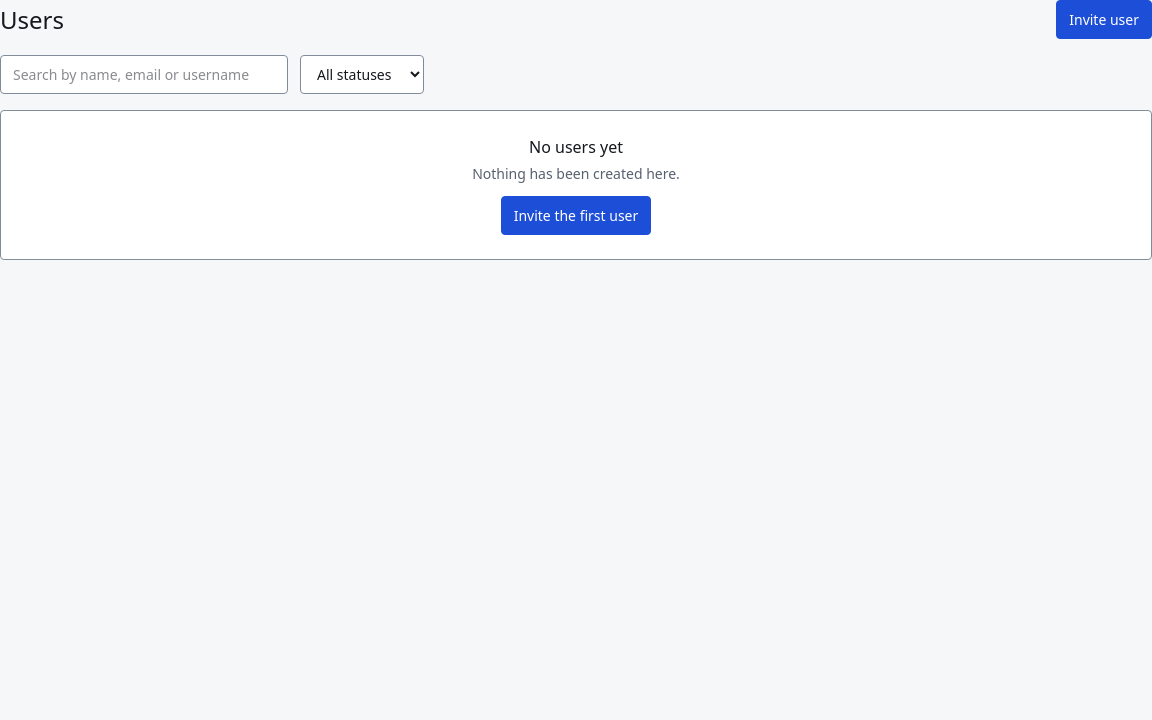
it: the invite flow › makes 'no access yet' an explicit choice rather than a skip
Click the button "Invite user". click: {"x": 1104, "y": 20}
box: [1056,0,1151,39]
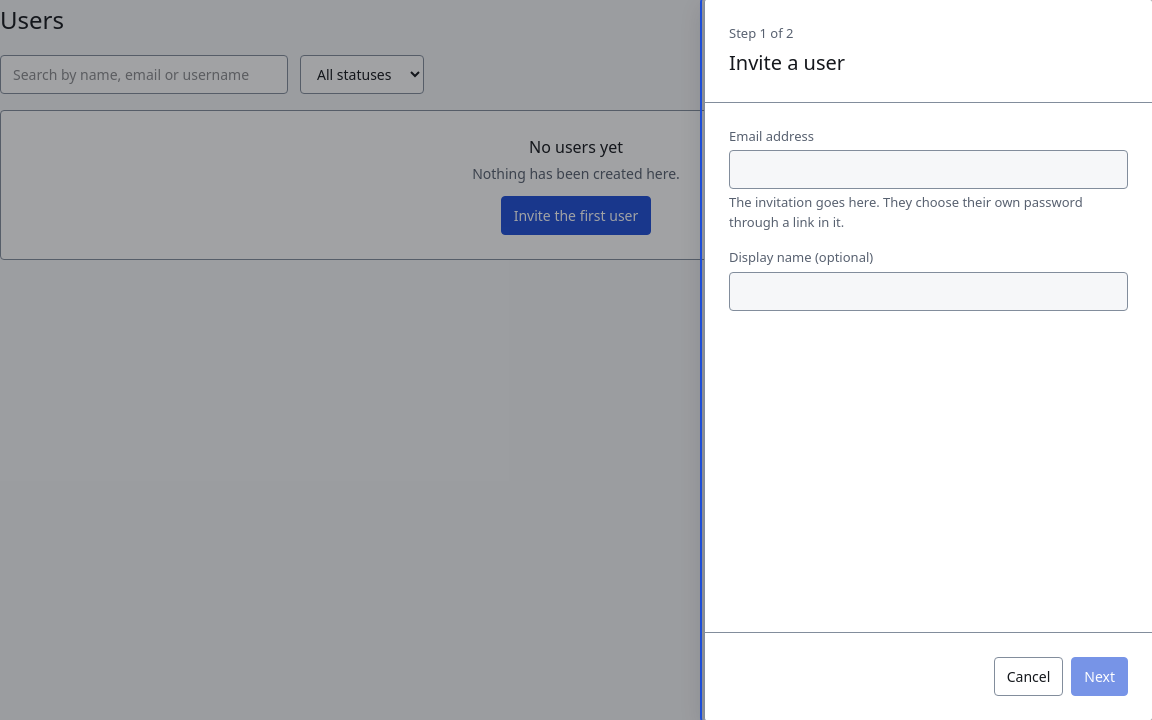
Type "new@example.test" into the field labelled "Email address". click: {"x": 928, "y": 170}
box: [729,150,1128,189]
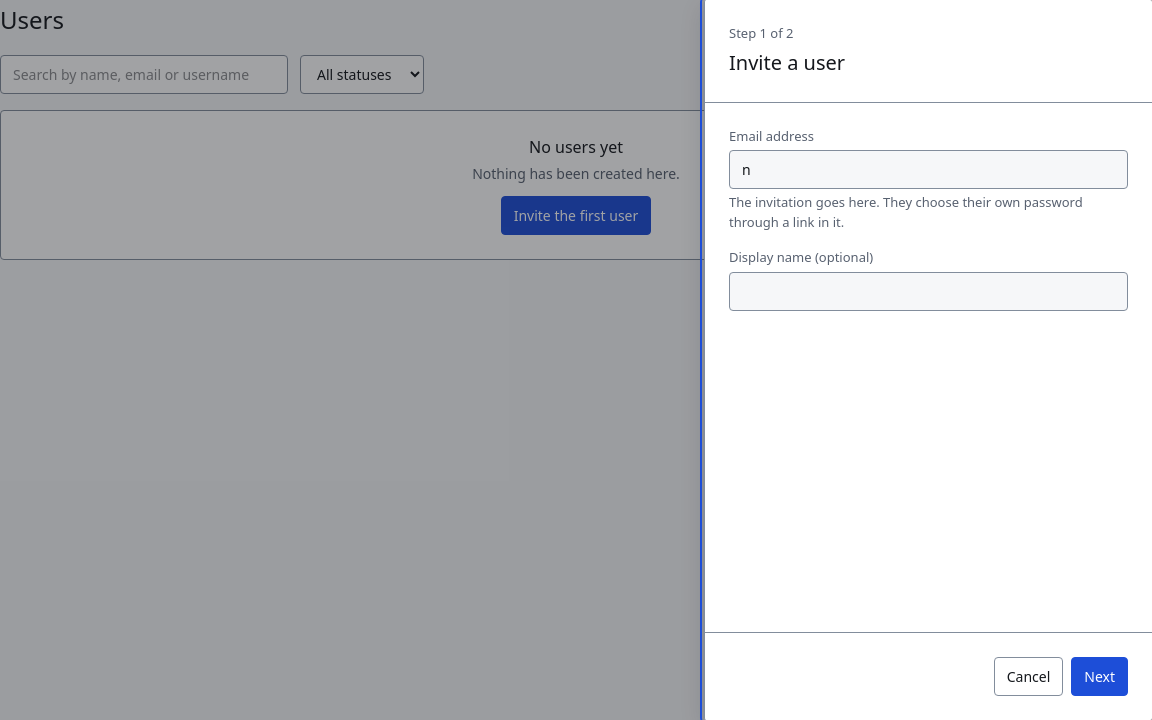
Click the button "Next". click: {"x": 1100, "y": 676}
box: [1071,657,1128,696]
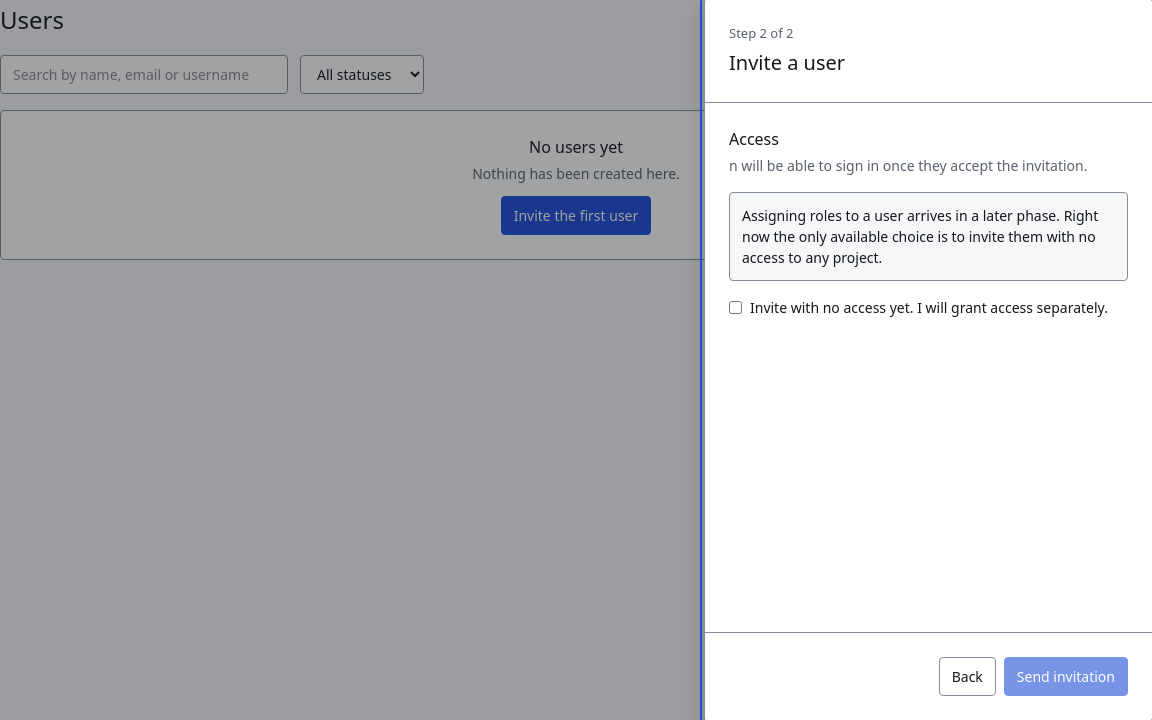
Expected: the button "Send invitation" is disabled, [1004,657,1128,696]
Click the checkbox labelled "Invite with no access yet. I will grant access separately.". click: {"x": 736, "y": 307}
box: [729,300,742,314]
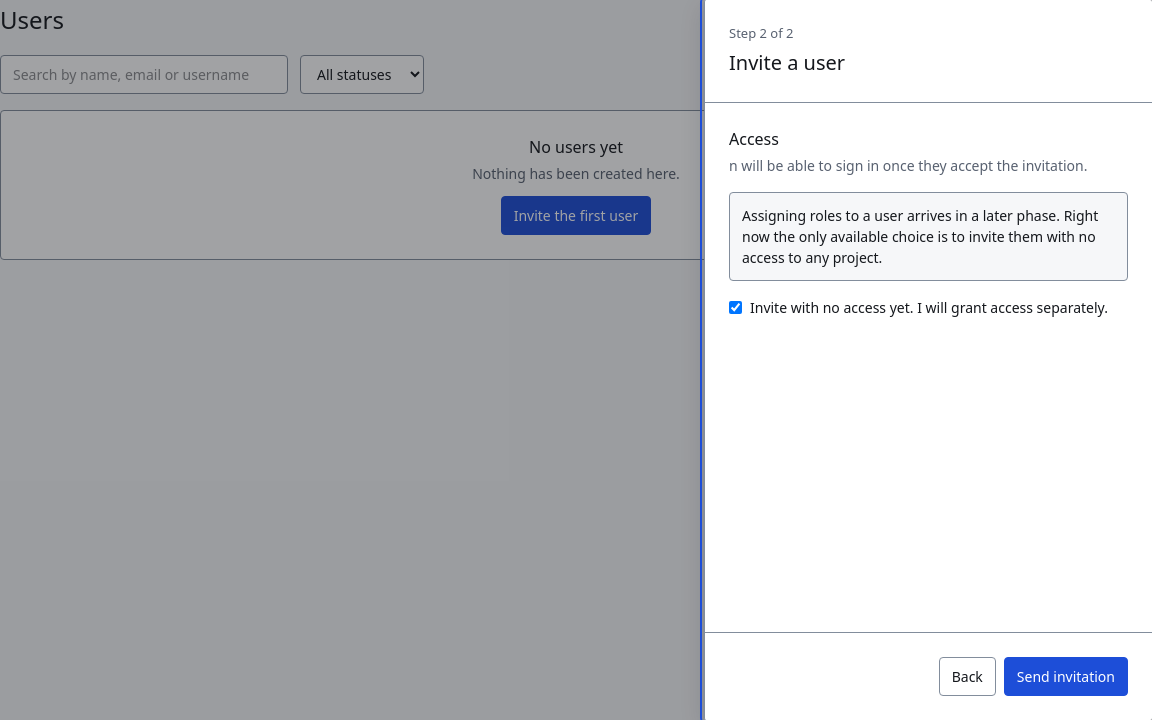
Expected: the button "Send invitation" is enabled, [1004,657,1128,696]
